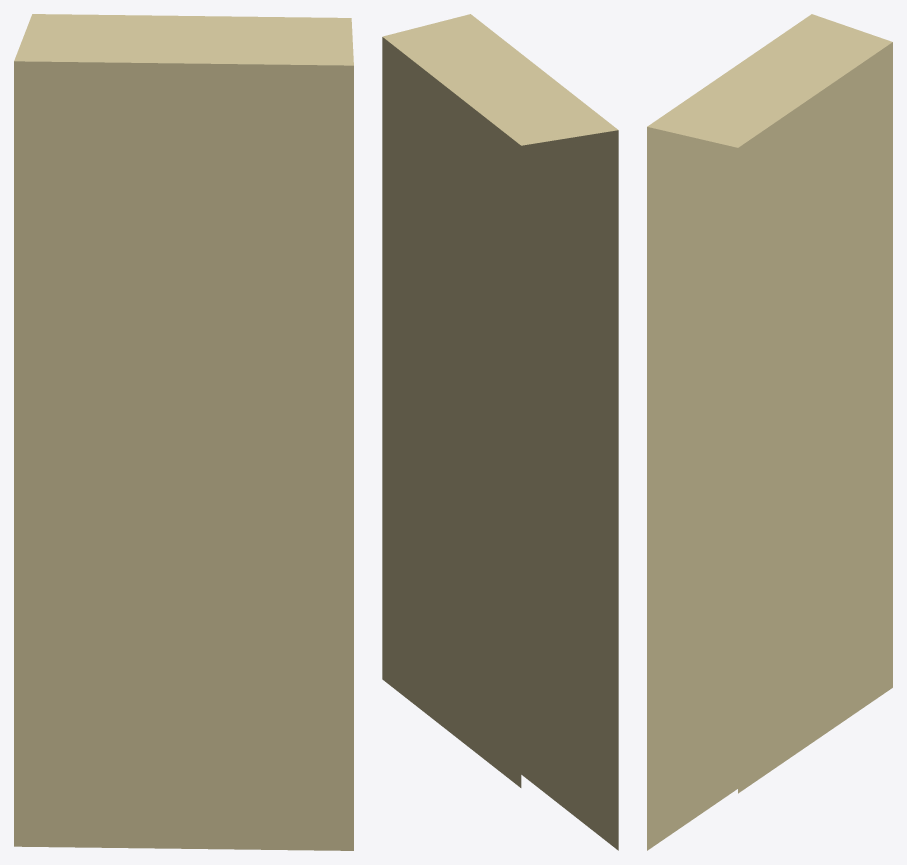
The model's file is wall5.fbx.
The picture shows the model from 3 angles, left to right: view 1: azimuth 30°, elevation 25°; view 2: azimuth 150°, elevation 25°; view 3: azimuth 270°, elevation 25°; orthographic projection. The views are drawn at different scales.
Visible parts, largest first — view 1: duvar.032; view 2: duvar.032; view 3: duvar.032.
Boxes of the visible parts, x1,y1,x2,y2 form: duvar.032: (14, 14, 353, 850); duvar.032: (382, 14, 618, 850); duvar.032: (647, 14, 892, 850).
Bounding box in the file's own units: 17.85 × 44.99 × 13.84.
